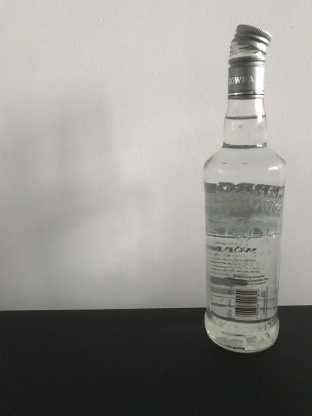nakretka: (226, 21, 273, 99)
